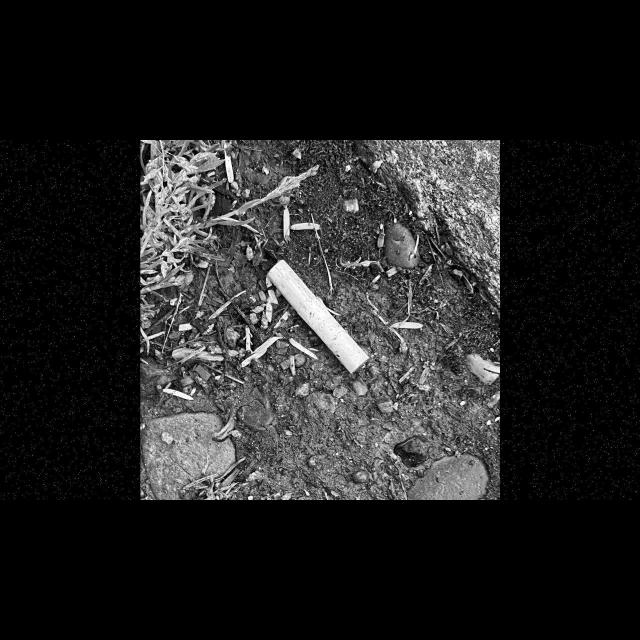cigarette: (265, 259, 370, 374)
